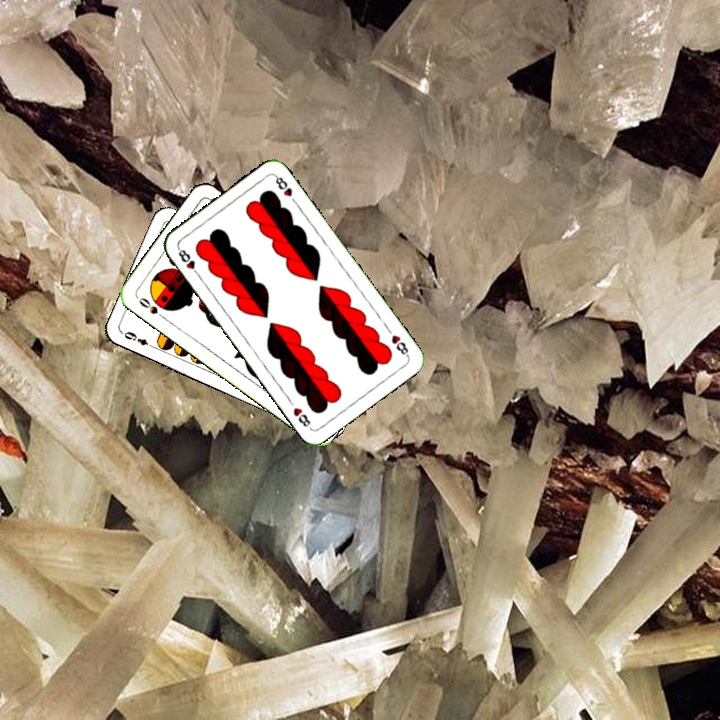E9: (118, 327, 157, 350)
H8: (173, 244, 202, 279), (387, 331, 411, 359)
SO: (134, 293, 168, 322)
